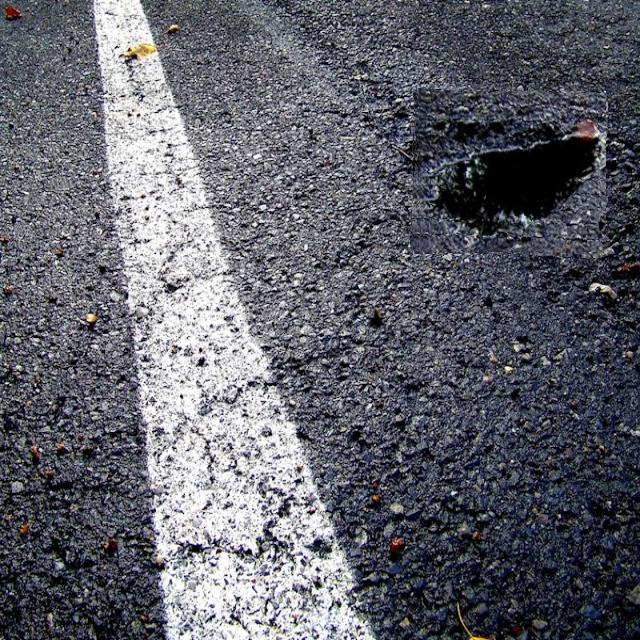Pothole: (411, 91, 606, 256)
